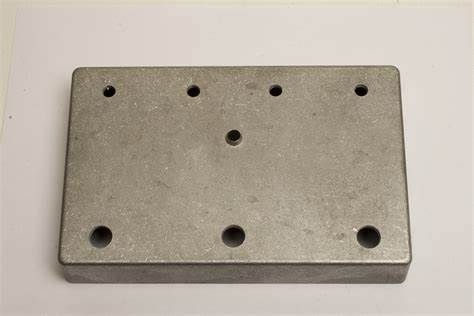bolt: (222, 129, 245, 148)
hole: (354, 224, 384, 251), (220, 223, 249, 250), (87, 223, 113, 251), (185, 83, 203, 101), (266, 83, 285, 100), (353, 83, 371, 99), (102, 84, 119, 100)
